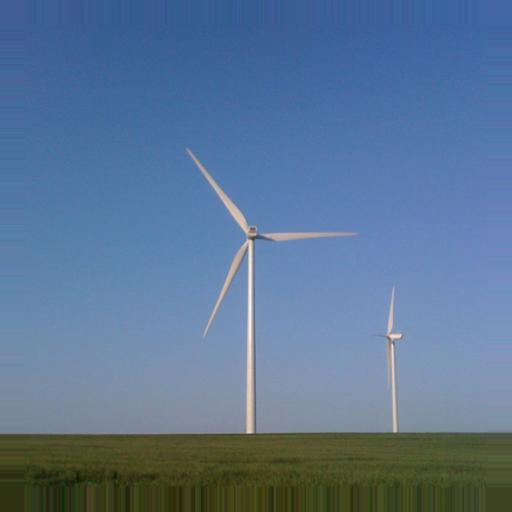wind turbine: (182, 144, 359, 433), (369, 285, 407, 433)
